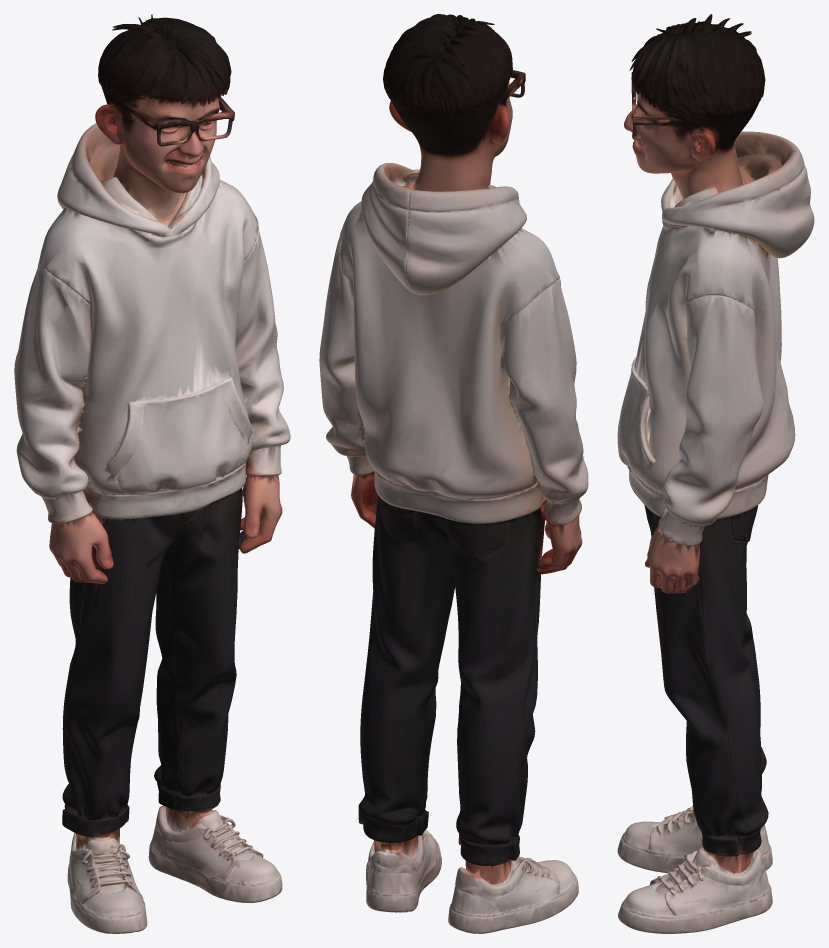
File: mood-02.glb
3 views of the same model, side by side, from view 1: azimuth 30°, elevation 25°; view 2: azimuth 150°, elevation 25°; view 3: azimuth 270°, elevation 25° (orthographic).
Parts seen in each view (by area): view 1: node_0; view 2: node_0; view 3: node_0.
Part boxes in pixels (x1=…): node_0: x1=14, y1=14, x2=290, y2=933; node_0: x1=319, y1=14, x2=588, y2=933; node_0: x1=617, y1=14, x2=814, y2=933.
Bounding box in the file's own units: 0.3585 × 1.18 × 0.2403.
Materials: 1 (1 with a texture image).
